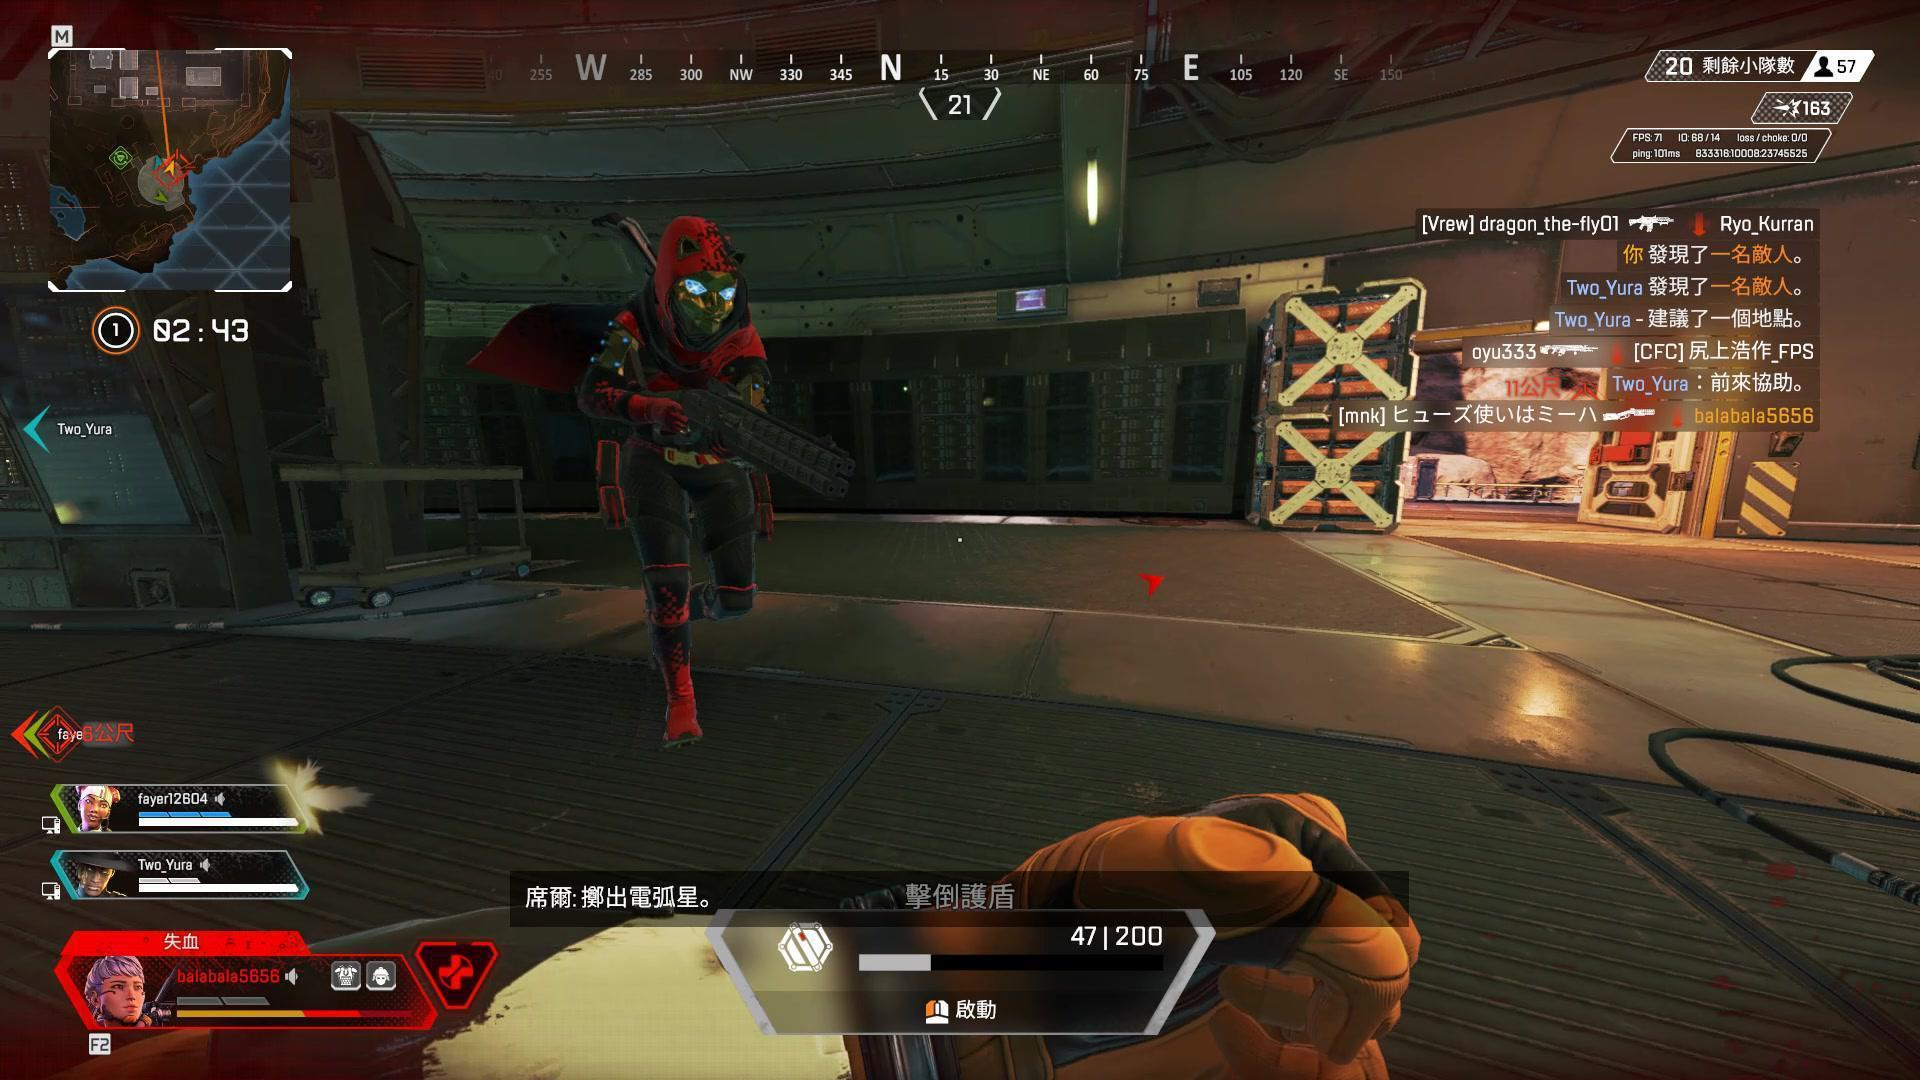avatar: (577, 214, 781, 750)
